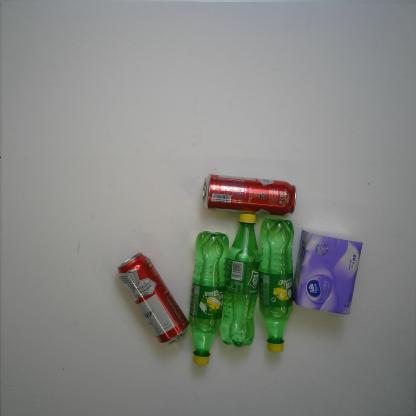Alcohol: (117, 251, 190, 346), (202, 174, 296, 216)
Drink: (219, 213, 261, 349), (188, 230, 230, 366), (259, 218, 295, 354)
Tissue: (291, 228, 363, 316)
